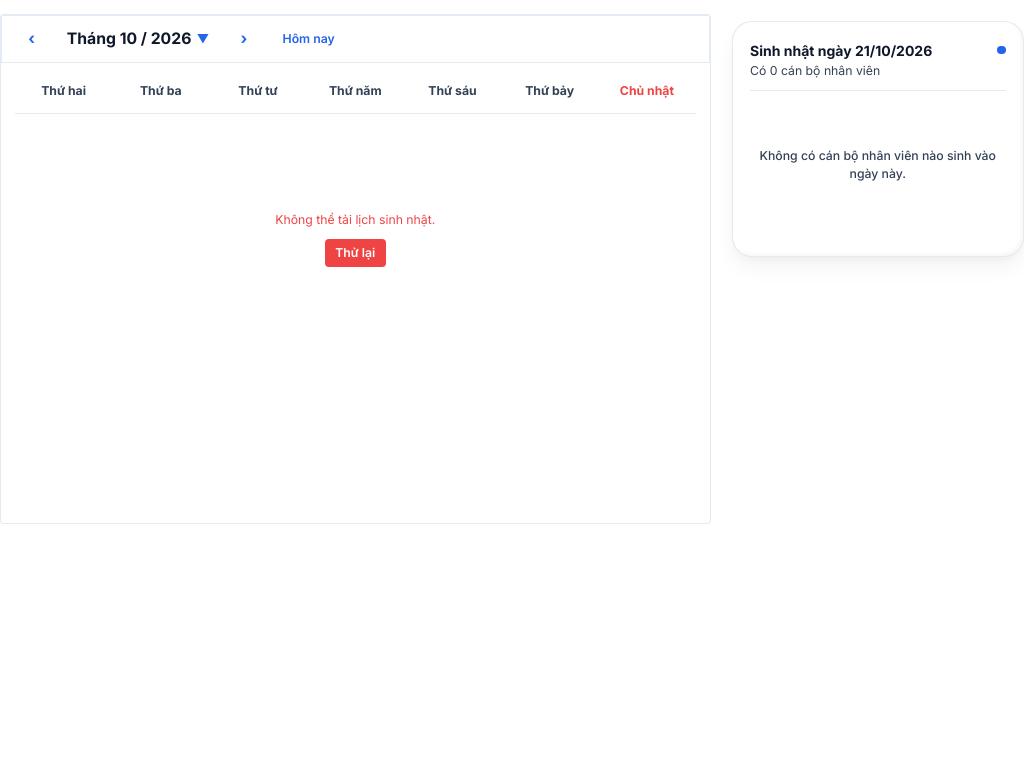
it: BirthdayPage › shows a calendar error and reloads the monthly counts
Check: the text "Không thể tải lịch sinh nhật." is shown, box [275,210,435,228]
Click the button "Thử lại" at (355, 252), box [325,238,386,266]
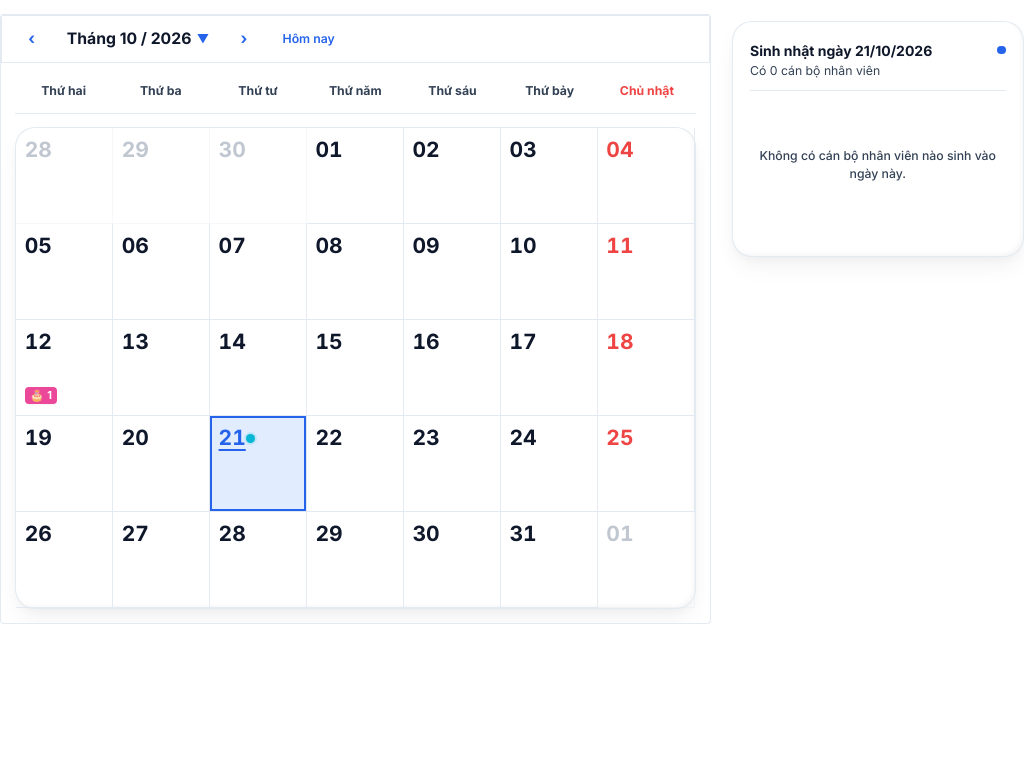
Check: the element titled "1 cán bộ nhân viên có sinh nhật" is shown, box [25,386,57,404]
